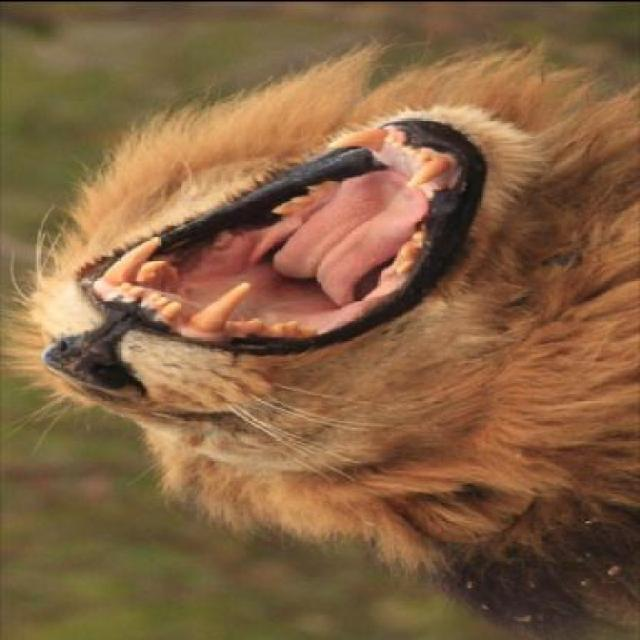Lion: (11, 34, 638, 578)
